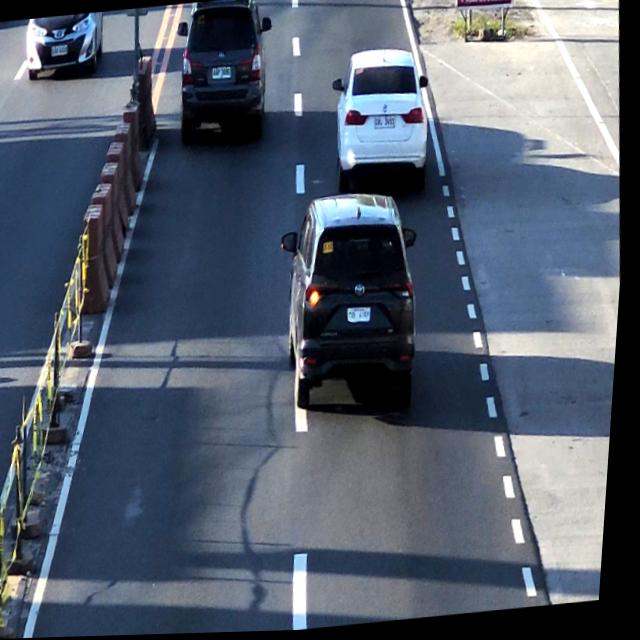Car: (278, 195, 424, 405), (331, 40, 439, 185), (171, 0, 272, 143)
License-Plate: (348, 302, 377, 332), (373, 115, 399, 132), (212, 64, 235, 82)
